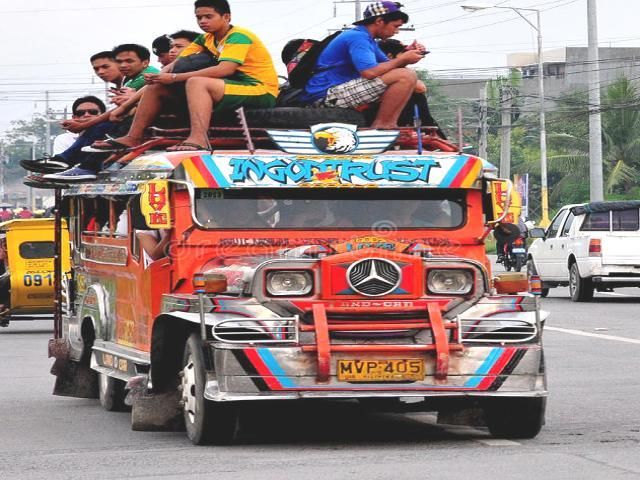jeepney: (23, 114, 640, 449)
